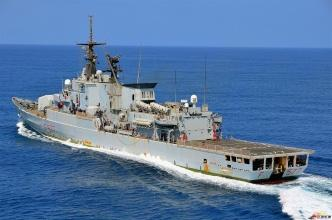warship: (11, 22, 317, 179)
